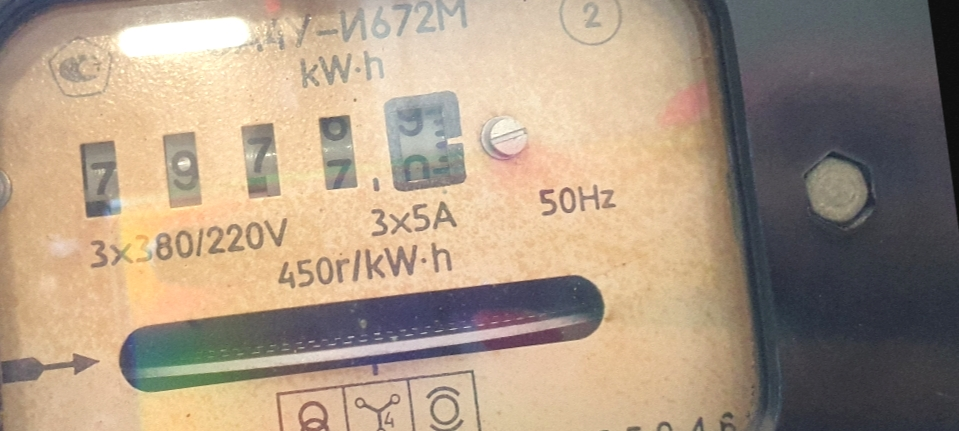0: (397, 145, 435, 187)
7: (242, 129, 278, 176), (85, 154, 121, 200), (322, 152, 357, 191)
9: (164, 143, 204, 193), (393, 98, 428, 138)
screen: (54, 65, 496, 257)
